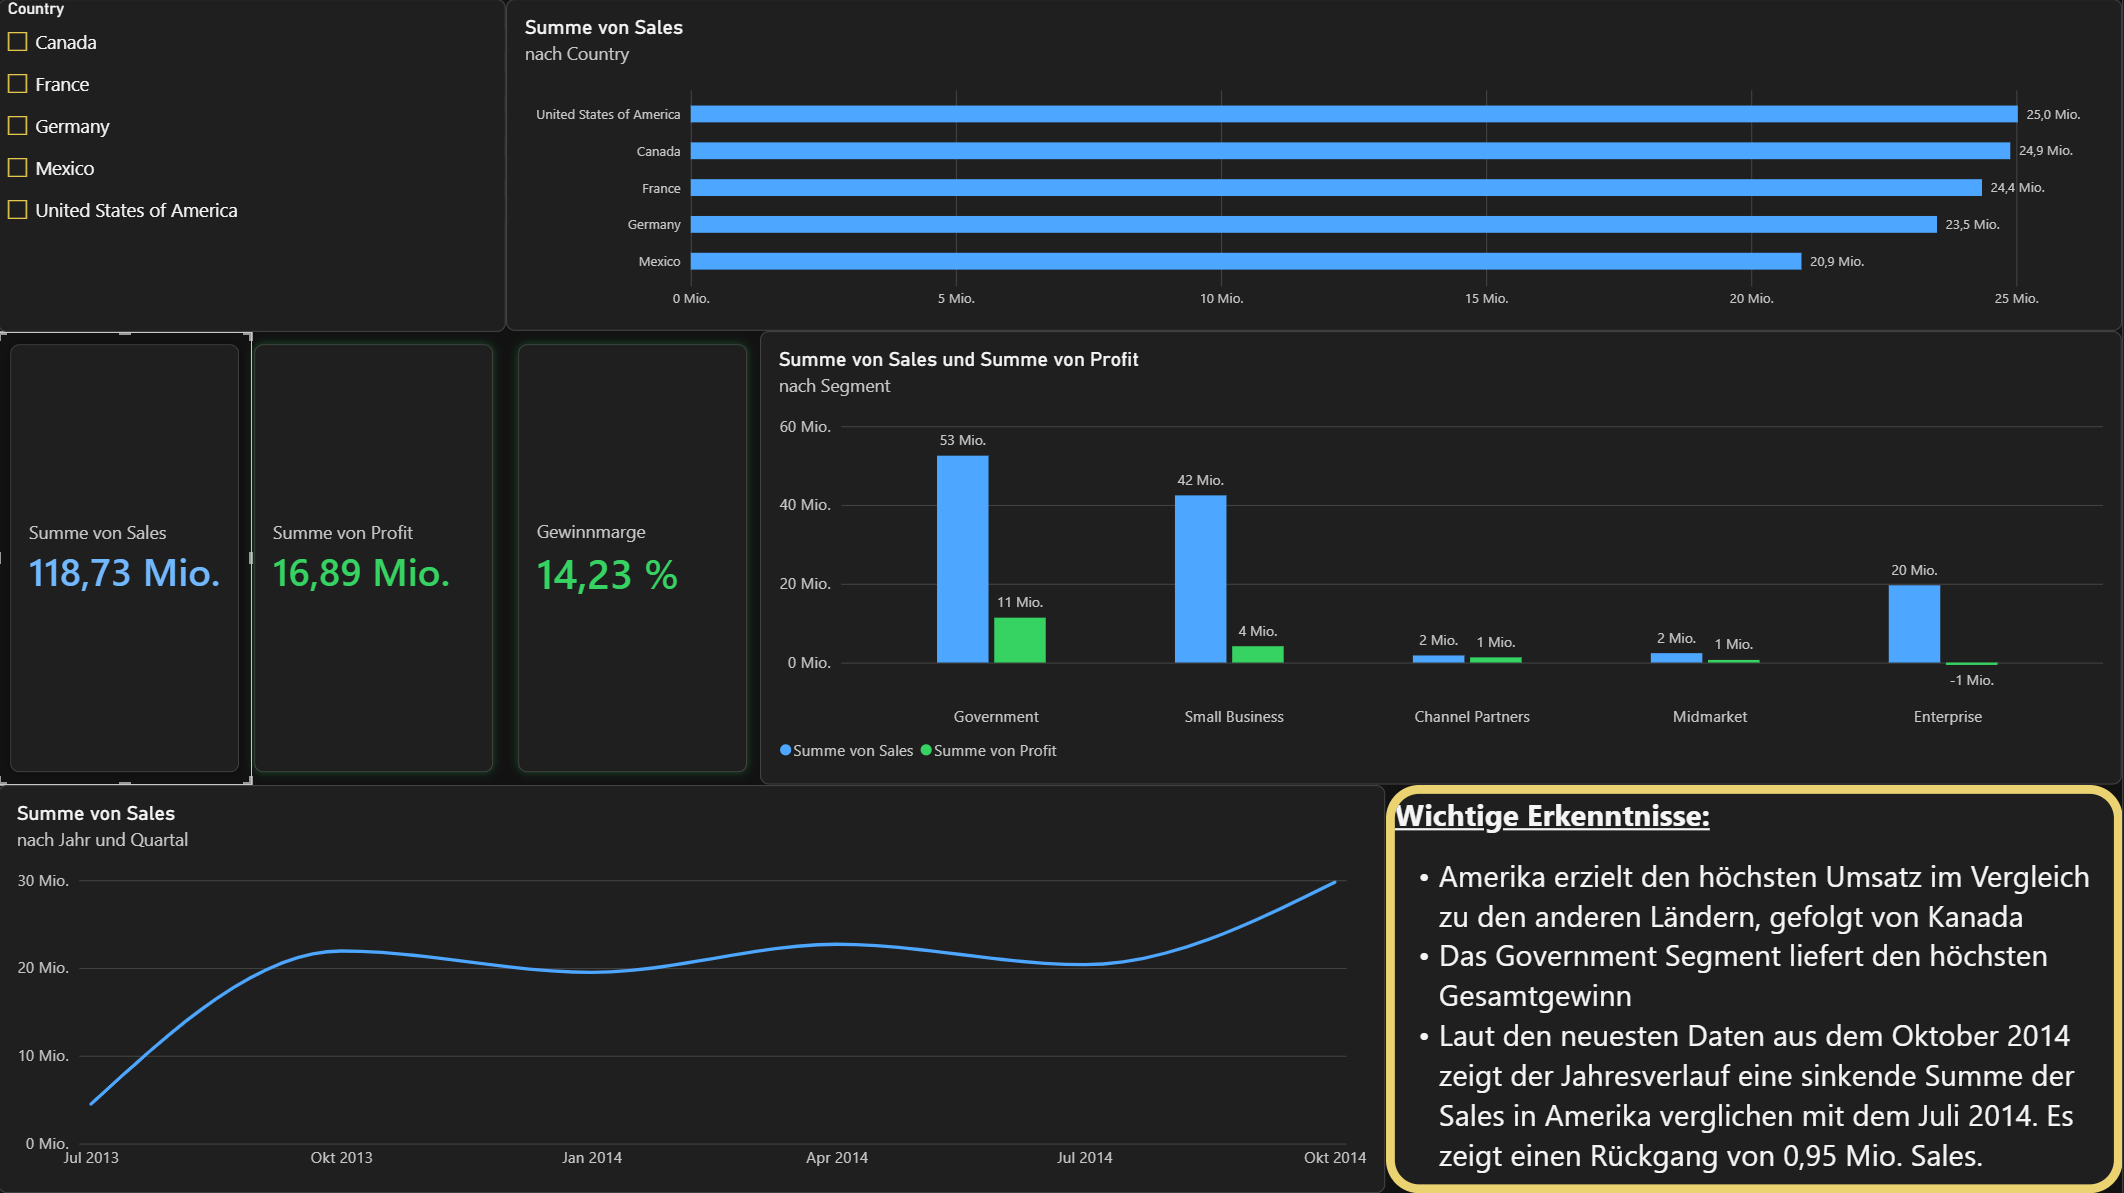

The page's visual inventory and layout, read from the dashboard file:
{"tool":"powerbi","page":{"name":"Seite 1","canvas":[1920,1080],"ordinal":0},"visuals":[{"type":"cardVisual","fields":{"Data":["Sum(financials.Sales)"]},"box":[0,301.3,229.7,409.3],"z":0},{"type":"cardVisual","fields":{"Data":["financials.Gewinnmarge"]},"box":[459.4,301.3,229.7,409.3],"z":1000},{"type":"clusteredBarChart","fields":{"Category":["financials.Country"],"Y":["Sum(financials.Sales)"]},"box":[459.4,0,1460.6,300.4],"z":2000},{"type":"clusteredColumnChart","fields":{"Category":["financials.Segment"],"Y":["Sum(financials.Sales)","Sum(financials.Profit)"]},"box":[689.1,300.4,1230.9,410.3],"z":3000},{"type":"lineChart","fields":{"Category":["financials.Date.Variation.Datumshierarchie.Jahr","financials.Date.Variation.Datumshierarchie.Quartal"],"Y":["Sum(financials.Sales)"]},"box":[0,710.7,1254.5,369.1],"z":4000},{"type":"slicer","fields":{"Values":["financials.Country"]},"box":[0,0,459.4,301.3],"z":5000},{"type":"textbox","box":[1254.5,710.7,665.5,369.1],"z":6000},{"type":"cardVisual","fields":{"Data":["Sum(financials.Profit)"]},"box":[220.9,301.3,238.5,409.3],"z":7000}]}

Visuals, with their boxes in screenshot pixels (x1, y1, x2, y2), scaled from the page's 1920x1080 canvas onto the 2124x1193 screenshot:
cardVisual - Sum(financials.Sales): locate(0, 333, 254, 785)
cardVisual - financials.Gewinnmarge: locate(508, 333, 762, 785)
clusteredBarChart - financials.Country x Sum(financials.Sales): locate(508, 0, 2123, 332)
clusteredColumnChart - financials.Segment x Sum(financials.Sales): locate(762, 332, 2123, 785)
lineChart - financials.Date.Variation.Datumshierarchie.Jahr x financials.Date.Variation.Datumshierarchie.Quartal: locate(0, 785, 1388, 1192)
slicer - financials.Country: locate(0, 0, 508, 333)
textbox: locate(1388, 785, 2123, 1192)
cardVisual - Sum(financials.Profit): locate(244, 333, 508, 785)
